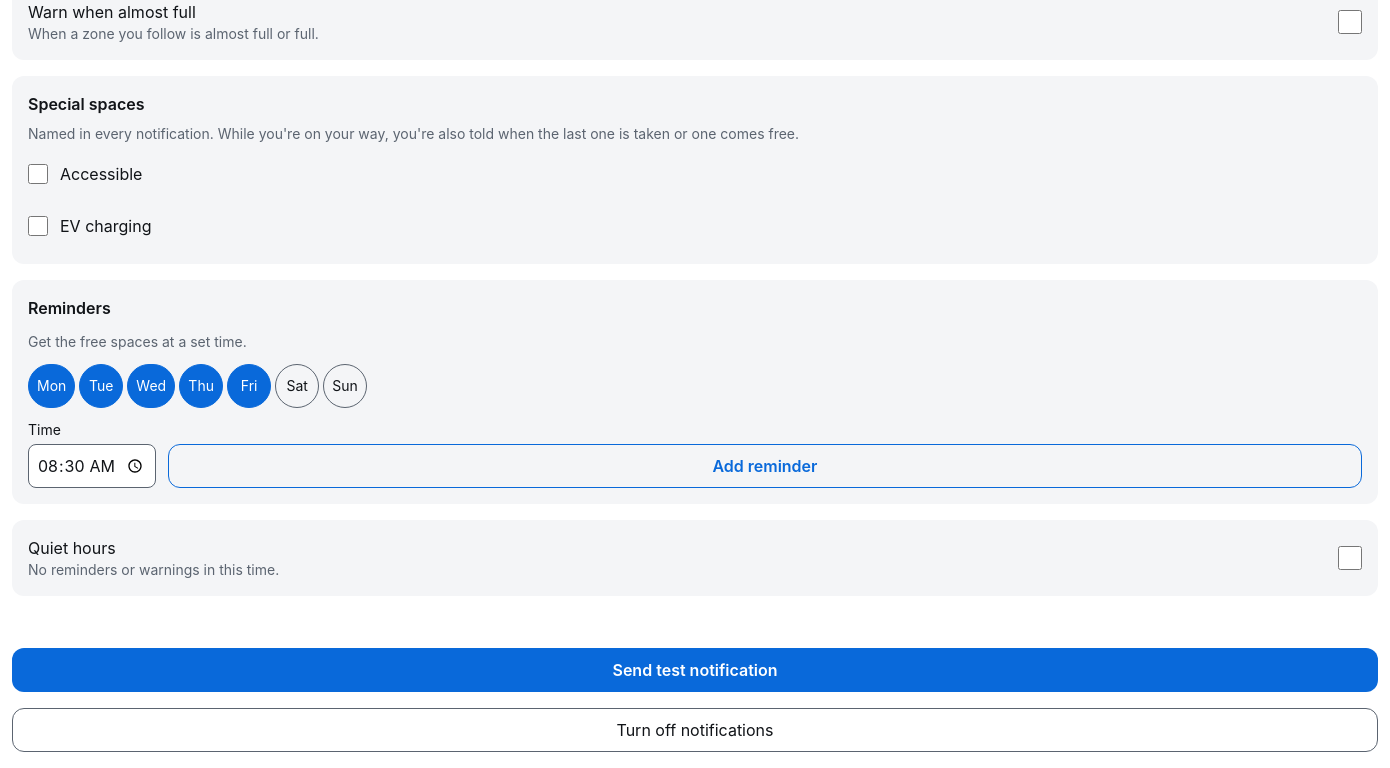
it: NotificationsScreen › when subscribed › sends a test notification
(page scrolled)
Click the button "Send test notification". click: (695, 670)
box: [12, 648, 1378, 692]
(page scrolled)
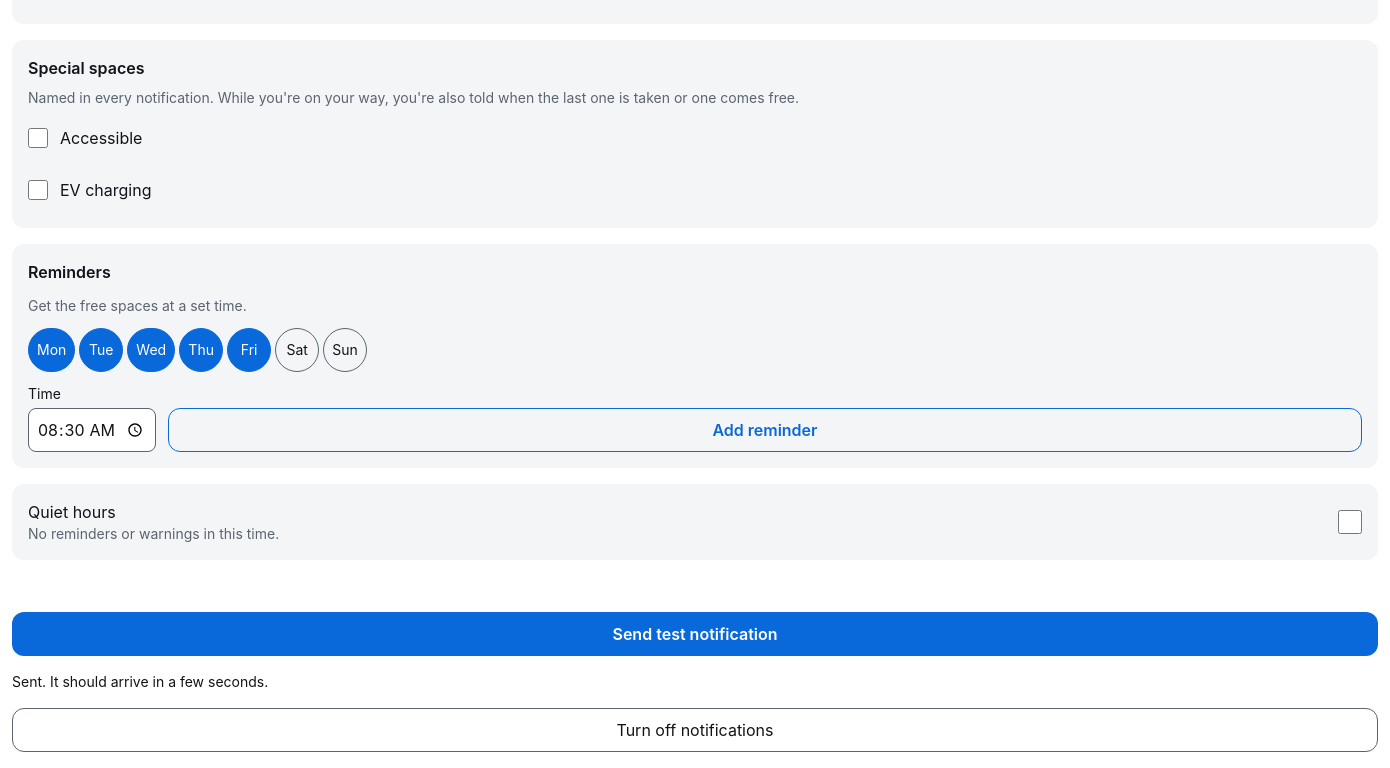
Now the text "Sent. It should arrive in a few seconds." is shown, box [12, 673, 268, 690]
